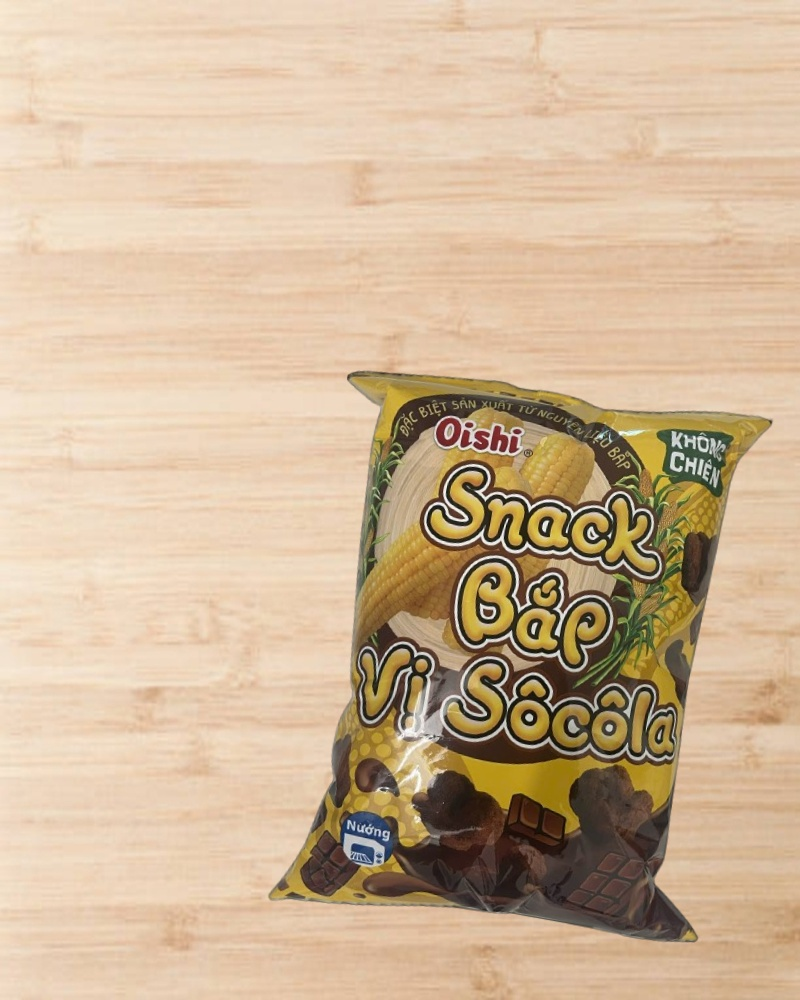Snack socola: (261, 350, 789, 963)
